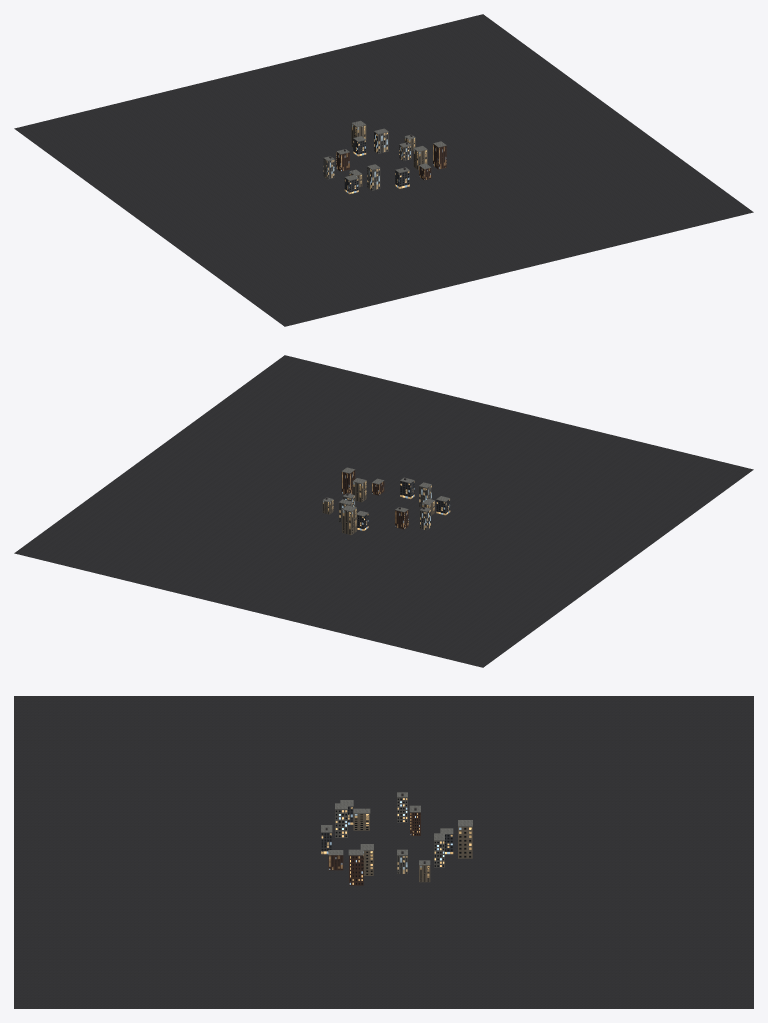
File: mid_blocks.glb
The picture shows the model from 3 angles, top to bottom: view 1: azimuth 30°, elevation 25°; view 2: azimuth 150°, elevation 25°; view 3: azimuth 270°, elevation 25°; orthographic projection. The views are drawn at different scales.
Parts seen in each view (by area): view 1: mid_blocks; view 2: mid_blocks; view 3: mid_blocks.
Boxes of the visible parts, x1,y1,x2,y2 form: mid_blocks: (14,14,753,326); mid_blocks: (14,355,753,667); mid_blocks: (14,696,753,1008).
Size of the model in its own units: 800 by 44.63 by 800.
Materials: 4 (4 with a texture image).
